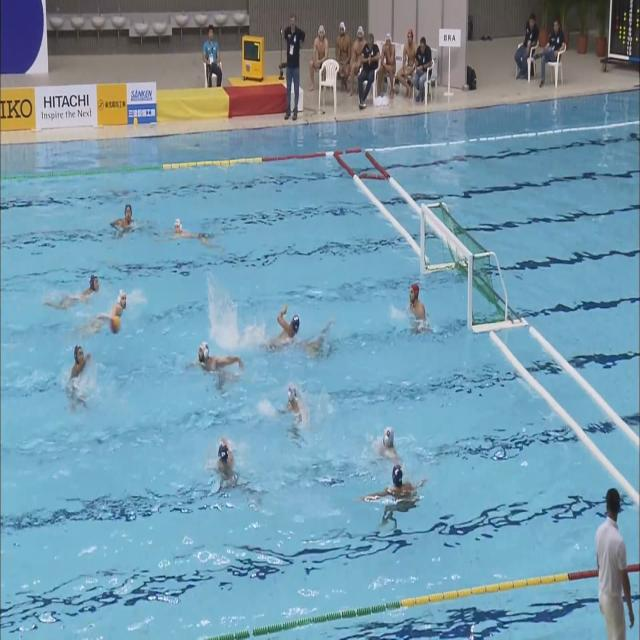ball: (110, 316, 121, 334)
